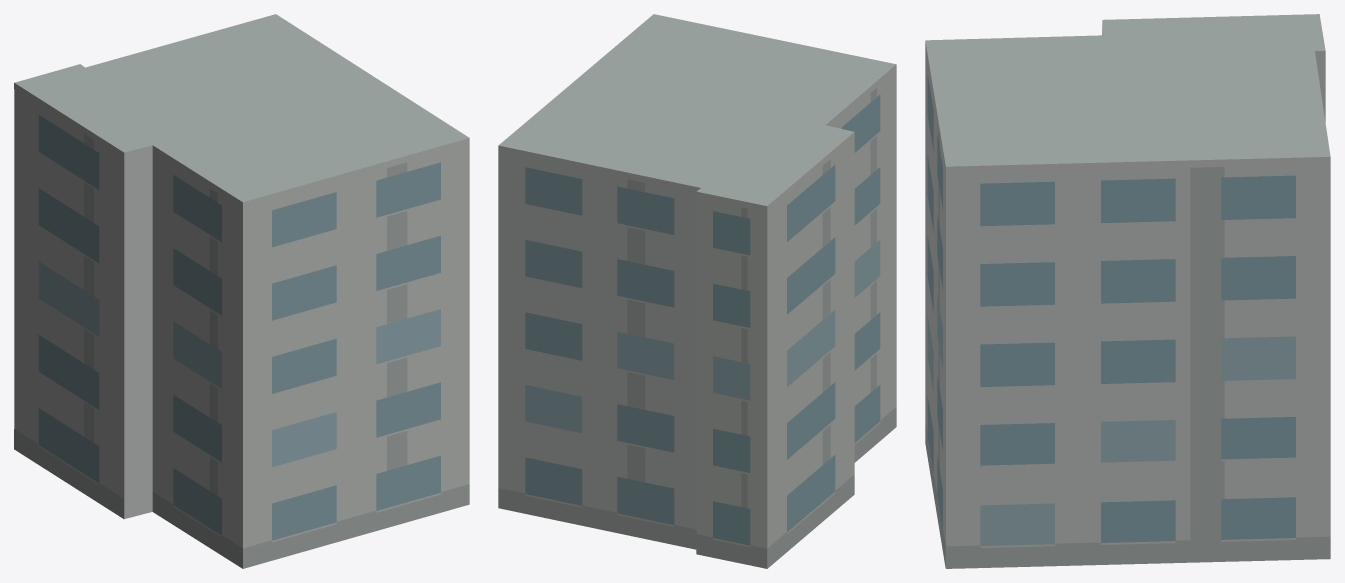
Rendered from survey-upis-32698617.glb.
The picture shows the model from 3 angles, left to right: view 1: azimuth 30°, elevation 25°; view 2: azimuth 150°, elevation 25°; view 3: azimuth 270°, elevation 25°; orthographic projection. The views are drawn at different scales.
Parts seen in each view (by area): view 1: survey-upis-32698617.tmp; view 2: survey-upis-32698617.tmp; view 3: survey-upis-32698617.tmp.
Boxes of the visible parts, x1,y1,x2,y2 form: survey-upis-32698617.tmp: (14,14,469,568); survey-upis-32698617.tmp: (498,14,896,568); survey-upis-32698617.tmp: (925,14,1330,568).
Bounding box in the file's own units: 10.79 × 13.25 × 12.11.
